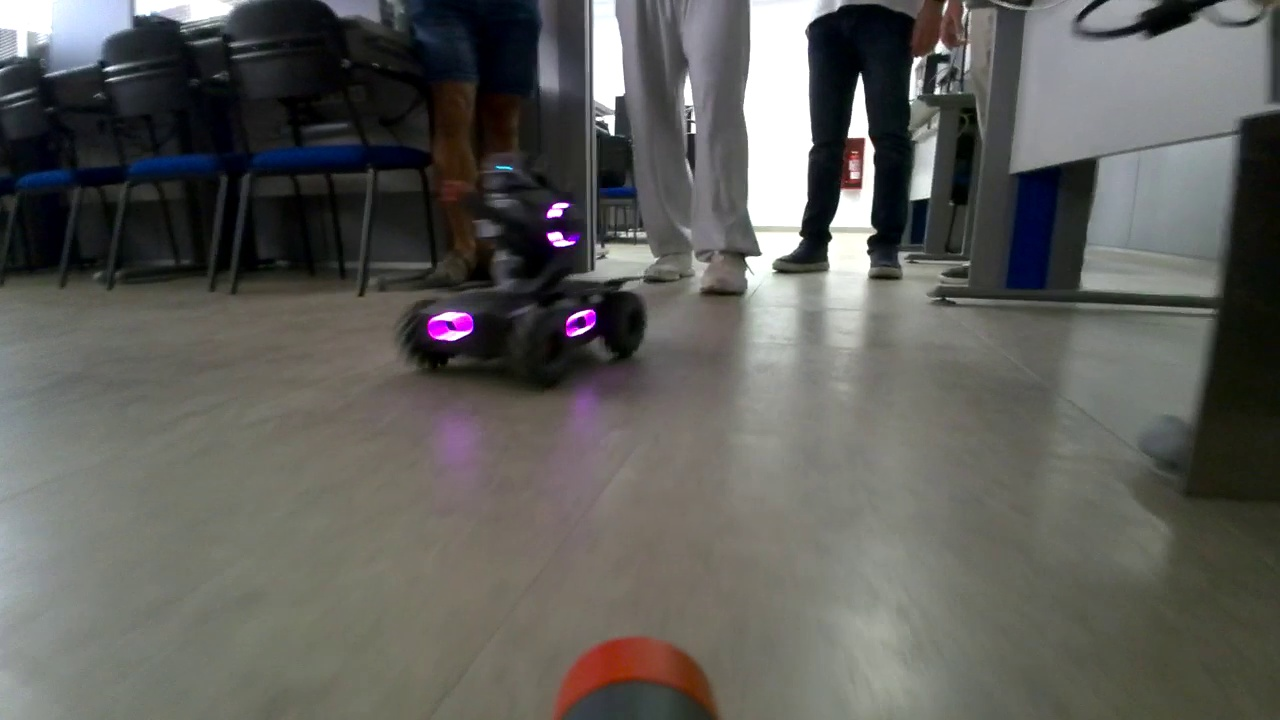robot: (393, 143, 652, 400)
